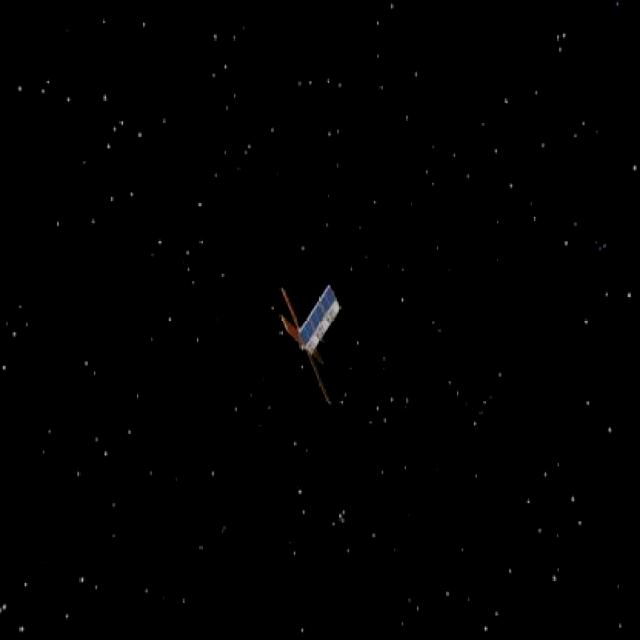medium_debris: (256, 279, 356, 406)
